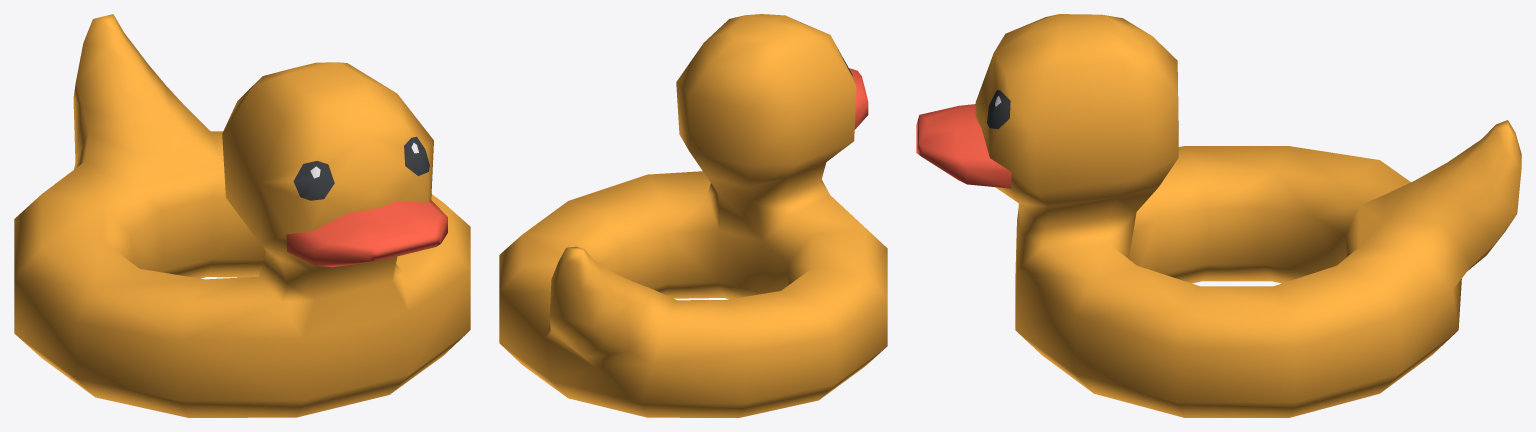
The model's file is SM_Prop_Pool_Float_Ring_04.obj.
3 views of the same model, side by side, from view 1: azimuth 30°, elevation 25°; view 2: azimuth 150°, elevation 25°; view 3: azimuth 270°, elevation 25° (orthographic). The views are drawn at different scales.
Visible parts, largest first — view 1: SM_Prop_Pool_Float_Ring_04_Mat_SwatchOverlay_PolygonTown_01_Inst; view 2: SM_Prop_Pool_Float_Ring_04_Mat_SwatchOverlay_PolygonTown_01_Inst; view 3: SM_Prop_Pool_Float_Ring_04_Mat_SwatchOverlay_PolygonTown_01_Inst.
Part boxes in pixels (x1,y1,x2,y2): SM_Prop_Pool_Float_Ring_04_Mat_SwatchOverlay_PolygonTown_01_Inst: [14, 14, 470, 417]; SM_Prop_Pool_Float_Ring_04_Mat_SwatchOverlay_PolygonTown_01_Inst: [499, 14, 887, 417]; SM_Prop_Pool_Float_Ring_04_Mat_SwatchOverlay_PolygonTown_01_Inst: [916, 14, 1521, 417].
Bounding box in the file's own units: 1.11 × 0.8532 × 1.52.
Materials: 1 (1 with a texture image).
